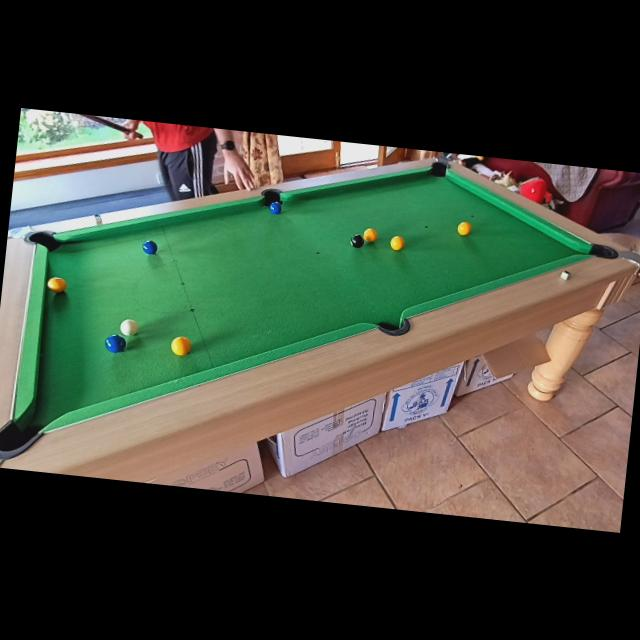Ball: (169, 334, 192, 356), (104, 332, 127, 352), (46, 276, 68, 294), (118, 318, 138, 337), (388, 234, 404, 250), (457, 220, 472, 237), (349, 233, 364, 248), (142, 240, 158, 254), (362, 227, 376, 242), (268, 200, 282, 214)
